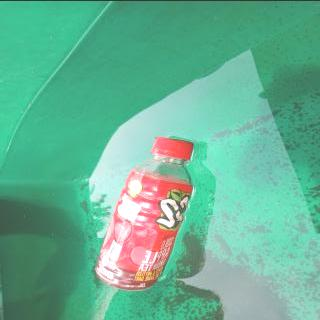bottle: (94, 135, 194, 290)
